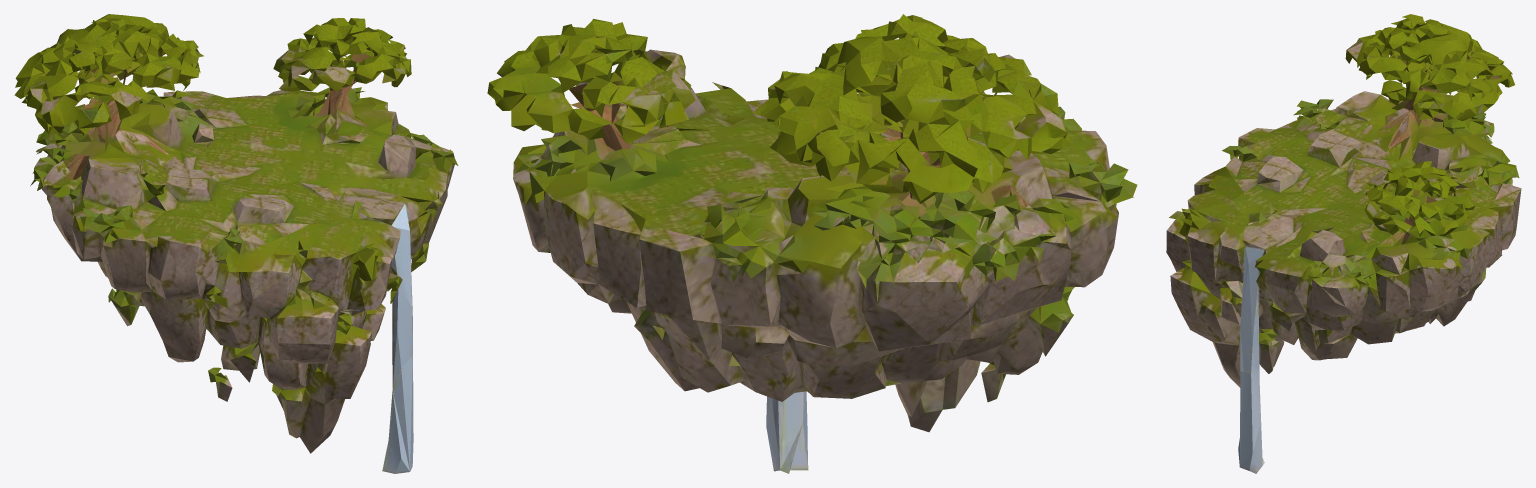
File: island.glb
3 views of the same model, side by side, from view 1: azimuth 30°, elevation 25°; view 2: azimuth 150°, elevation 25°; view 3: azimuth 270°, elevation 25° (orthographic). The views are drawn at different scales.
Size of the model in its own units: 1.79 by 1.9 by 1.66.
Materials: 1 (1 with a texture image).
